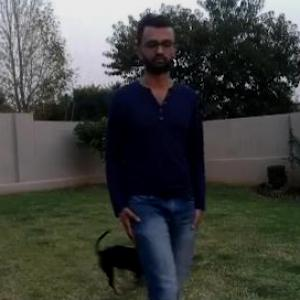follow: (107, 19, 207, 299)
